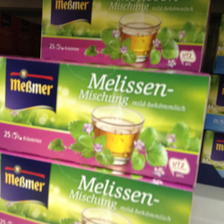tea: (1, 56, 210, 185), (1, 151, 195, 224), (38, 1, 211, 71)
